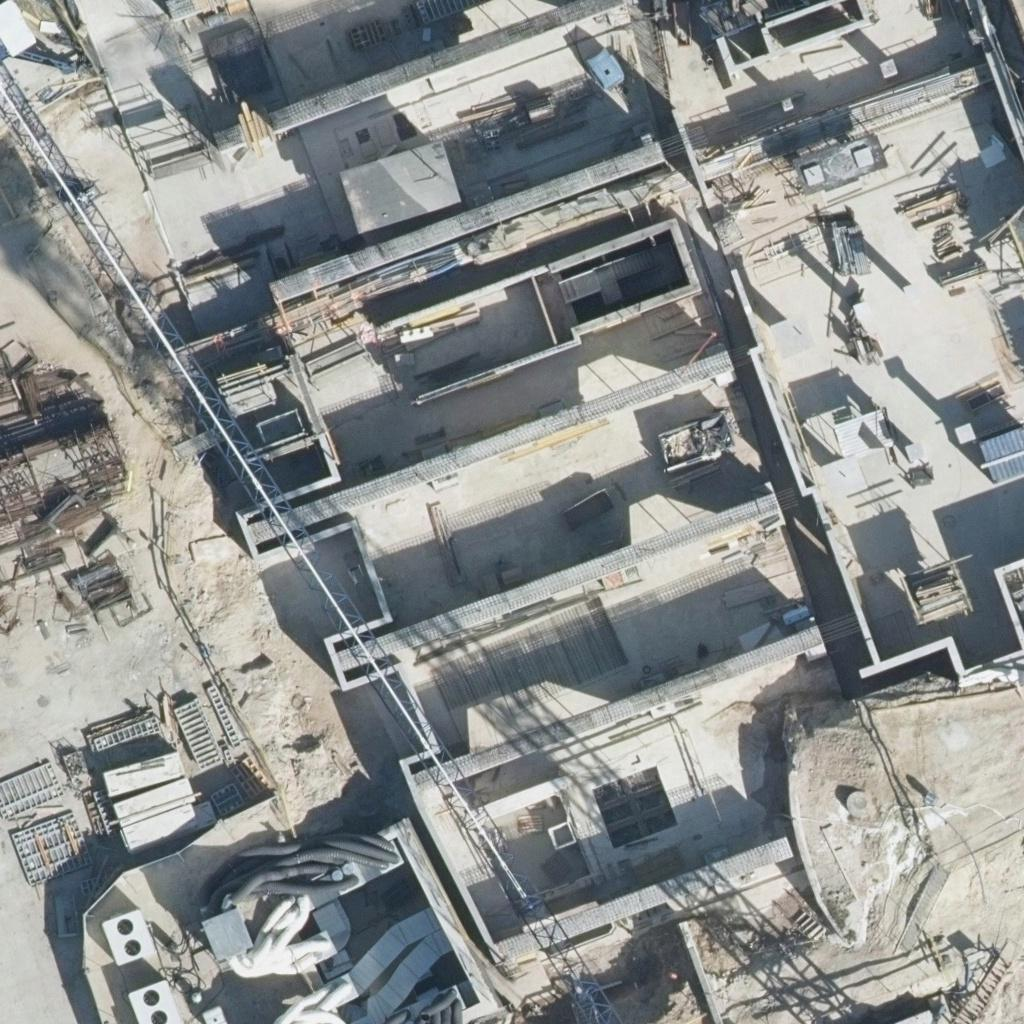zuraw_wiezowy: (20, 44, 645, 1021)
